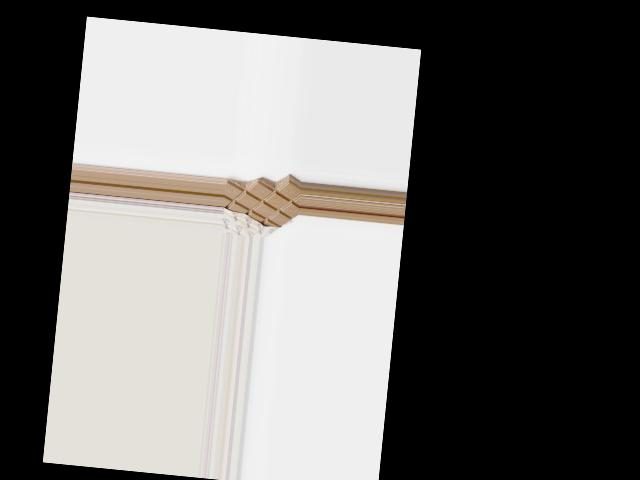chocolate: (220, 173, 300, 240)
